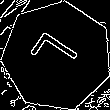L_SE: (27, 29, 87, 83)
